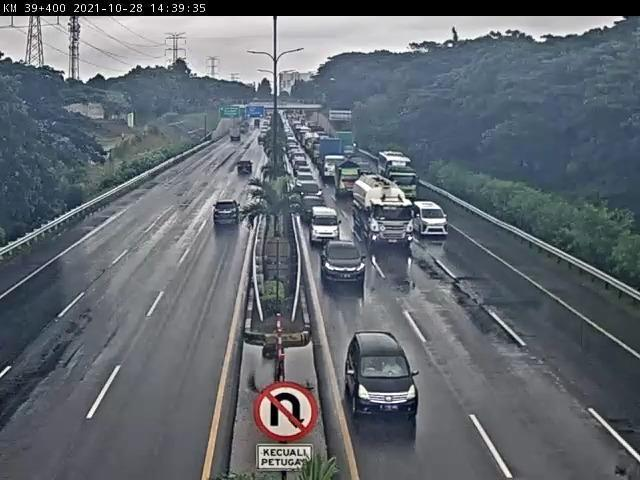Bus: (376, 150, 420, 200)
